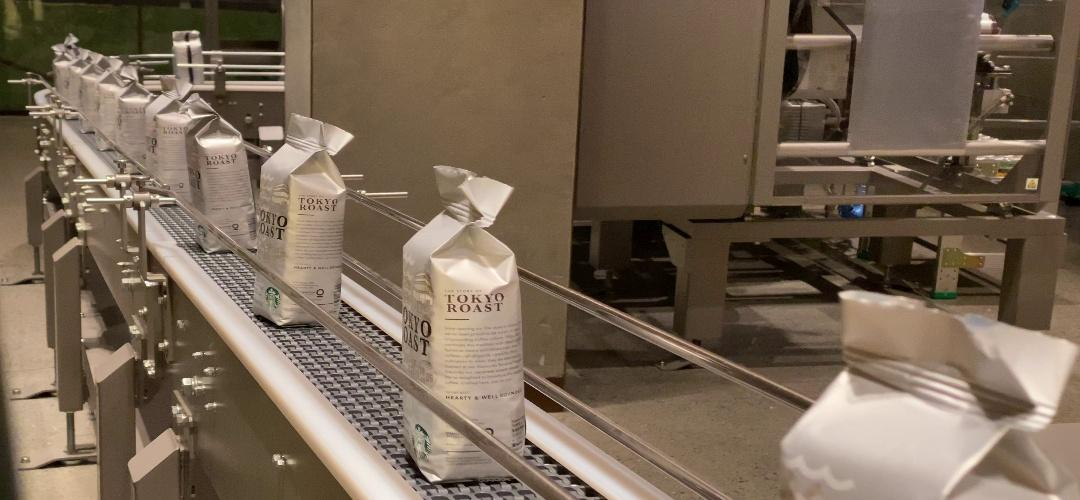conveyor: (399, 250, 526, 356), (259, 167, 345, 257), (186, 142, 248, 203)
